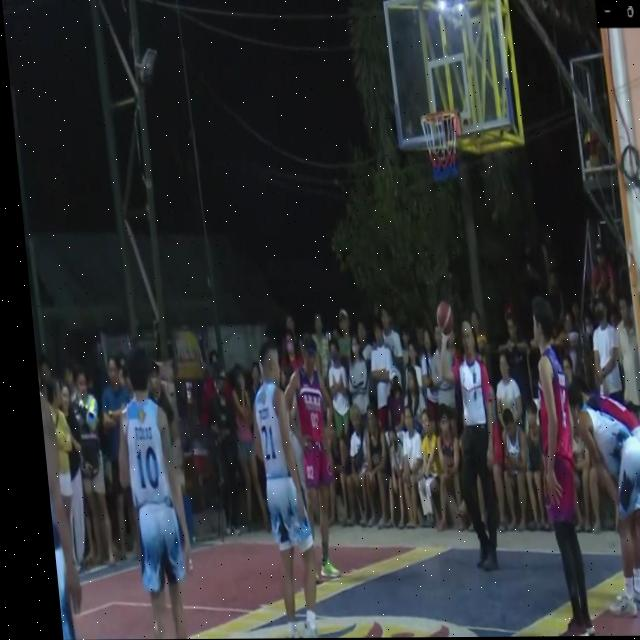basketball: (432, 297, 456, 336)
hoop: (416, 103, 468, 193)
